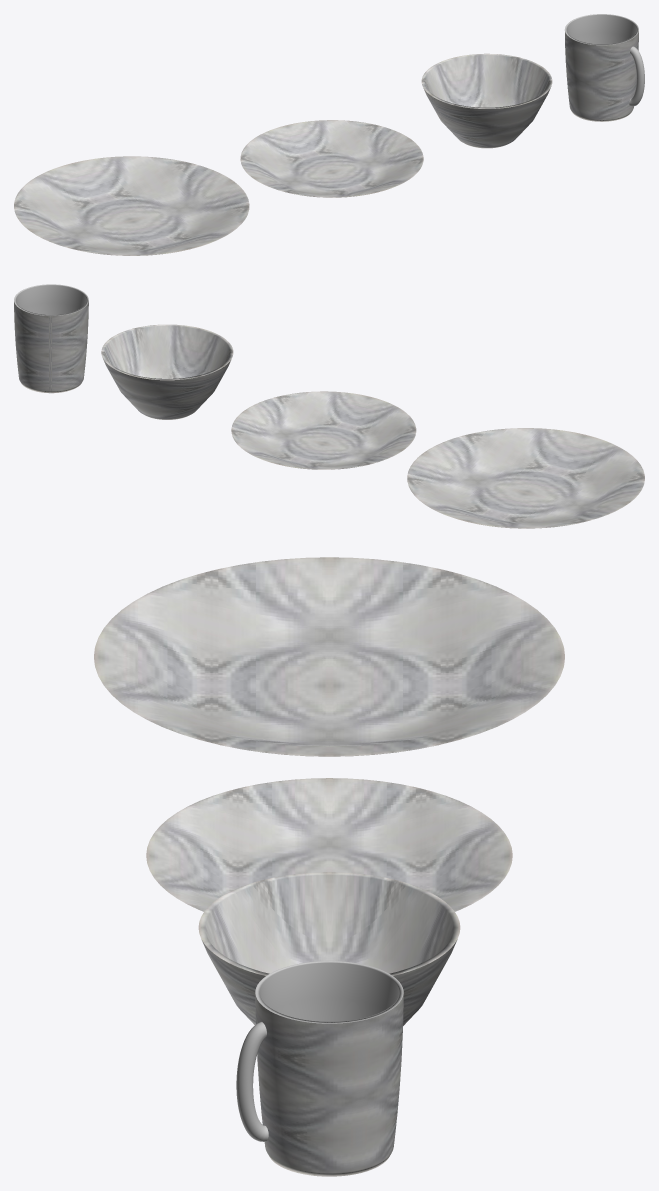
The model's file is MAR-07.glb.
3 renders of one model, top to bottom at view 1: azimuth 30°, elevation 25°; view 2: azimuth 150°, elevation 25°; view 3: azimuth 270°, elevation 25°, orthographic. The views are drawn at different scales.
Bounding box in the file's own units: 0.7995 × 0.1 × 0.27.
9 materials, 7 textured.
